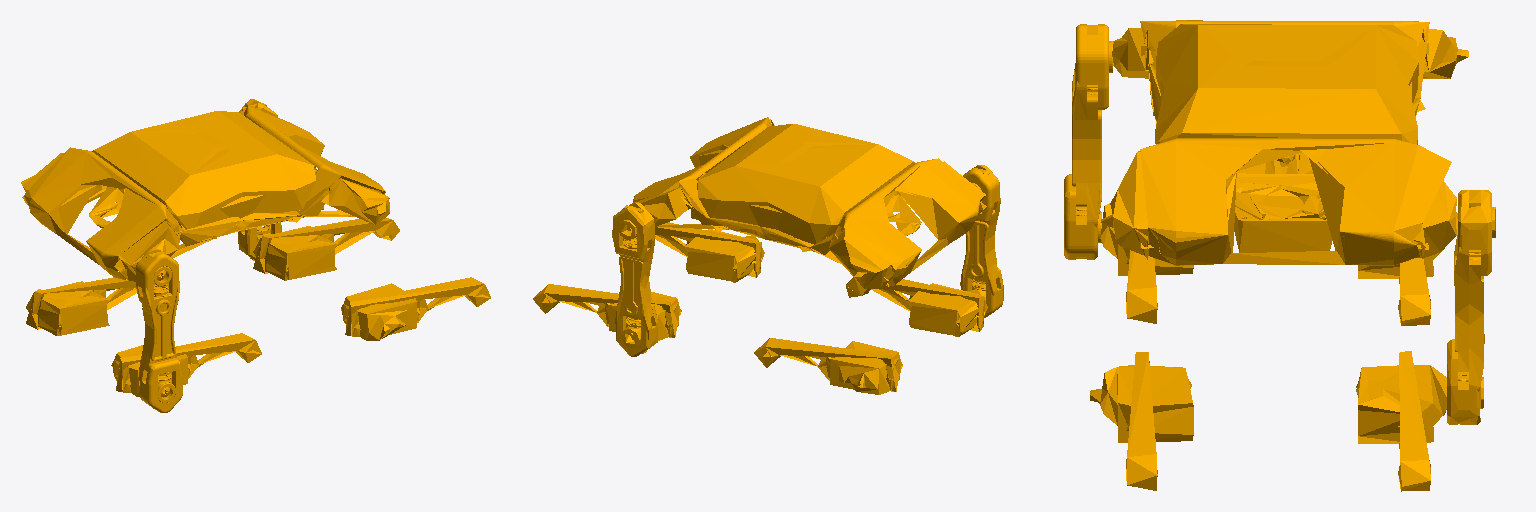
robot.urdf — BittleMesh:
<?xml version="1.0"?>
<robot name="BittleMesh">
  <material name="yellow"><color rgba="1 0.7 0 1"/></material>
  <link name="torso">
    <visual><geometry><mesh filename="meshes/torso.obj"/></geometry><material name="yellow"/></visual>
    <collision><geometry><mesh filename="meshes/torso.obj"/></geometry></collision>
    <inertial><origin xyz="0.0002 -0.0000 0.0013"/><mass value="0.123"/>
      <inertia ixx="9.24e-05" ixy="0" ixz="0" iyy="1.53e-04" iyz="0" izz="2.26e-04"/></inertial>
  </link>
  <link name="battery">
    <visual><geometry><mesh filename="meshes/battery.obj"/></geometry><material name="yellow"/></visual>
    <collision><geometry><mesh filename="meshes/battery.obj"/></geometry></collision>
    <inertial><origin xyz="0.0030 -0.0003 -0.0048"/><mass value="0.056"/>
      <inertia ixx="4.73e-06" ixy="0" ixz="0" iyy="2.07e-05" iyz="0" izz="2.40e-05"/></inertial>
  </link>
  <joint name="battery" type="fixed"><origin xyz="0 0 0"/><parent link="torso"/><child link="battery"/></joint>
  <link name="left_upper_arm">
    <visual><geometry><mesh filename="meshes/left_upper_arm.obj"/></geometry><material name="yellow"/></visual>
    <collision><geometry><mesh filename="meshes/left_upper_arm.obj"/></geometry></collision>
    <inertial><origin xyz="-0.0000 0.0040 -0.0226"/><mass value="0.006"/>
      <inertia ixx="2.07e-06" ixy="0" ixz="0" iyy="2.11e-06" iyz="0" izz="1.78e-07"/></inertial>
  </link>
  <joint name="shoulder_left" type="revolute"><axis xyz="0 1 0"/><origin xyz="0.0478 0.0408 -0.0019"/><parent link="torso"/><child link="left_upper_arm"/><limit effort="1" lower="-2.182" upper="1.222" velocity="10"/></joint>
  <link name="right_upper_arm">
    <visual><geometry><mesh filename="meshes/right_upper_arm.obj"/></geometry><material name="yellow"/></visual>
    <collision><geometry><mesh filename="meshes/right_upper_arm.obj"/></geometry></collision>
    <inertial><origin xyz="0.0000 -0.0071 -0.0225"/><mass value="0.006"/>
      <inertia ixx="2.03e-06" ixy="0" ixz="0" iyy="2.07e-06" iyz="0" izz="1.78e-07"/></inertial>
  </link>
  <joint name="shoulder_right" type="revolute"><axis xyz="0 -1 0"/><origin xyz="0.0478 -0.0413 -0.0019"/><parent link="torso"/><child link="right_upper_arm"/><limit effort="1" lower="-1.222" upper="2.182" velocity="10"/></joint>
  <link name="right_upper_leg">
    <visual><geometry><mesh filename="meshes/right_upper_leg.obj"/></geometry><material name="yellow"/></visual>
    <collision><geometry><mesh filename="meshes/right_upper_leg.obj"/></geometry></collision>
    <inertial><origin xyz="0.0000 -0.0071 -0.0225"/><mass value="0.006"/>
      <inertia ixx="2.03e-06" ixy="0" ixz="0" iyy="2.07e-06" iyz="0" izz="1.78e-07"/></inertial>
  </link>
  <joint name="hip_right" type="revolute"><axis xyz="0 -1 0"/><origin xyz="-0.0475 -0.0413 -0.0019"/><parent link="torso"/><child link="right_upper_leg"/><limit effort="1" lower="-2.182" upper="0.611" velocity="10"/></joint>
  <link name="left_upper_leg">
    <visual><geometry><mesh filename="meshes/left_upper_leg.obj"/></geometry><material name="yellow"/></visual>
    <collision><geometry><mesh filename="meshes/left_upper_leg.obj"/></geometry></collision>
    <inertial><origin xyz="-0.0000 0.0040 -0.0226"/><mass value="0.006"/>
      <inertia ixx="2.07e-06" ixy="0" ixz="0" iyy="2.11e-06" iyz="0" izz="1.78e-07"/></inertial>
  </link>
  <joint name="hip_left" type="revolute"><axis xyz="0 1 0"/><origin xyz="-0.0475 0.0408 -0.0019"/><parent link="torso"/><child link="left_upper_leg"/><limit effort="1" lower="-0.611" upper="2.182" velocity="10"/></joint>
  <link name="left_lower_arm">
    <visual><geometry><mesh filename="meshes/left_lower_arm.obj"/></geometry><material name="yellow"/></visual>
    <collision><geometry><mesh filename="meshes/left_lower_arm.obj"/></geometry></collision>
    <inertial><origin xyz="-0.0003 -0.0114 -0.0108"/><mass value="0.017"/>
      <inertia ixx="5.99e-06" ixy="0" ixz="0" iyy="5.40e-06" iyz="0" izz="1.19e-06"/></inertial>
  </link>
  <joint name="elbow_left" type="revolute"><axis xyz="0 -1 0"/><origin xyz="-0.0000 -0.0000 -0.0450" rpy="0 -1.5708 0"/><parent link="left_upper_arm"/><child link="left_lower_arm"/><limit effort="1" lower="-2.182" upper="1.047" velocity="10"/></joint>
  <link name="right_lower_arm">
    <visual><geometry><mesh filename="meshes/right_lower_arm.obj"/></geometry><material name="yellow"/></visual>
    <collision><geometry><mesh filename="meshes/right_lower_arm.obj"/></geometry></collision>
    <inertial><origin xyz="-0.0001 0.0107 -0.0109"/><mass value="0.017"/>
      <inertia ixx="5.67e-06" ixy="0" ixz="0" iyy="5.02e-06" iyz="0" izz="1.18e-06"/></inertial>
  </link>
  <joint name="elbow_right" type="revolute"><axis xyz="0 1 0"/><origin xyz="-0.0000 -0.0037 -0.0457" rpy="0 -1.5708 0"/><parent link="right_upper_arm"/><child link="right_lower_arm"/><limit effort="1" lower="-1.047" upper="2.182" velocity="10"/></joint>
  <link name="right_lower_leg">
    <visual><geometry><mesh filename="meshes/right_lower_leg.obj"/></geometry><material name="yellow"/></visual>
    <collision><geometry><mesh filename="meshes/right_lower_leg.obj"/></geometry></collision>
    <inertial><origin xyz="-0.0001 0.0107 -0.0099"/><mass value="0.017"/>
      <inertia ixx="5.67e-06" ixy="0" ixz="0" iyy="5.02e-06" iyz="0" izz="1.18e-06"/></inertial>
  </link>
  <joint name="knee_right" type="revolute"><axis xyz="0 1 0"/><origin xyz="-0.0000 -0.0037 -0.0457" rpy="0 -1.5708 0"/><parent link="right_upper_leg"/><child link="right_lower_leg"/><limit effort="1" lower="-0.785" upper="2.182" velocity="10"/></joint>
  <link name="left_lower_leg">
    <visual><geometry><mesh filename="meshes/left_lower_leg.obj"/></geometry><material name="yellow"/></visual>
    <collision><geometry><mesh filename="meshes/left_lower_leg.obj"/></geometry></collision>
    <inertial><origin xyz="-0.0003 -0.0115 -0.0106"/><mass value="0.017"/>
      <inertia ixx="5.99e-06" ixy="0" ixz="0" iyy="5.40e-06" iyz="0" izz="1.19e-06"/></inertial>
  </link>
  <joint name="knee_left" type="revolute"><axis xyz="0 -1 0"/><origin xyz="0.0000 -0.0000 -0.0450" rpy="0 -1.5708 0"/><parent link="left_upper_leg"/><child link="left_lower_leg"/><limit effort="1" lower="-2.182" upper="0.785" velocity="10"/></joint>
  <link name="left_front_paw"><collision><geometry><sphere radius="0.006"/></geometry></collision>
    <inertial><mass value="0.0005"/><inertia ixx="1e-7" ixy="0" ixz="0" iyy="1e-7" iyz="0" izz="1e-7"/></inertial></link>
  <joint name="paw_left_front_paw" type="fixed"><origin xyz="-0.0023 -0.0123 -0.0503"/><parent link="left_lower_arm"/><child link="left_front_paw"/></joint>
  <link name="right_front_paw"><collision><geometry><sphere radius="0.006"/></geometry></collision>
    <inertial><mass value="0.0005"/><inertia ixx="1e-7" ixy="0" ixz="0" iyy="1e-7" iyz="0" izz="1e-7"/></inertial></link>
  <joint name="paw_right_front_paw" type="fixed"><origin xyz="-0.0015 0.0064 -0.0498"/><parent link="right_lower_arm"/><child link="right_front_paw"/></joint>
  <link name="right_back_paw"><collision><geometry><sphere radius="0.006"/></geometry></collision>
    <inertial><mass value="0.0005"/><inertia ixx="1e-7" ixy="0" ixz="0" iyy="1e-7" iyz="0" izz="1e-7"/></inertial></link>
  <joint name="paw_right_back_paw" type="fixed"><origin xyz="-0.0015 0.0064 -0.0488"/><parent link="right_lower_leg"/><child link="right_back_paw"/></joint>
  <link name="left_back_paw"><collision><geometry><sphere radius="0.006"/></geometry></collision>
    <inertial><mass value="0.0005"/><inertia ixx="1e-7" ixy="0" ixz="0" iyy="1e-7" iyz="0" izz="1e-7"/></inertial></link>
  <joint name="paw_left_back_paw" type="fixed"><origin xyz="-0.0023 -0.0123 -0.0501"/><parent link="left_lower_leg"/><child link="left_back_paw"/></joint>
</robot>

--- Facts derived from the render (not from the file) ---
3 views of the same robot in one strip: view 1: azimuth 30°, elevation 25°; view 2: azimuth 150°, elevation 25°; view 3: azimuth 270°, elevation 25° (orthographic).
Robot: BittleMesh — 14 links, 13 joints (8 revolute, 5 fixed); root link torso; default pose: every joint at zero.
Links seen in each view (by area): view 1: torso, right_upper_leg, right_lower_arm, left_lower_arm, left_lower_leg, right_lower_leg, left_upper_arm; view 2: torso, left_upper_arm, left_lower_leg, right_lower_leg, right_lower_arm, right_upper_leg, left_lower_arm; view 3: torso, right_upper_leg, left_lower_arm, right_lower_arm, left_upper_arm, battery, right_lower_leg, left_lower_leg.
Boxes of the visible links, box(x1,y1,x2,y2) form: torso: box(21, 103, 389, 281); right_upper_leg: box(136, 248, 182, 412); right_lower_arm: box(341, 277, 490, 340); left_lower_arm: box(253, 218, 399, 280); left_lower_leg: box(26, 277, 136, 335); right_lower_leg: box(111, 333, 261, 396); left_upper_arm: box(238, 99, 281, 260); torso: box(633, 117, 986, 288); left_upper_arm: box(612, 202, 657, 356); left_lower_leg: box(754, 338, 902, 394); right_lower_leg: box(846, 277, 987, 336); right_lower_arm: box(636, 222, 764, 282); right_upper_leg: box(960, 165, 1003, 317); left_lower_arm: box(533, 284, 681, 340); torso: box(1101, 20, 1468, 265); right_upper_leg: box(1064, 24, 1112, 259); left_lower_arm: box(1356, 351, 1446, 491); right_lower_arm: box(1090, 352, 1193, 490); left_upper_arm: box(1447, 190, 1495, 424); battery: box(1234, 155, 1332, 252); right_lower_leg: box(1100, 203, 1193, 323); left_lower_leg: box(1358, 248, 1444, 325).
Size in the robot's own frame: 0.1573 by 0.1051 by 0.0764 metres.
Meshes: 10 distinct files referenced, 8 mesh visuals loaded (8 OBJ); not drawn: 2 (reference not matched to a file when rendering).
